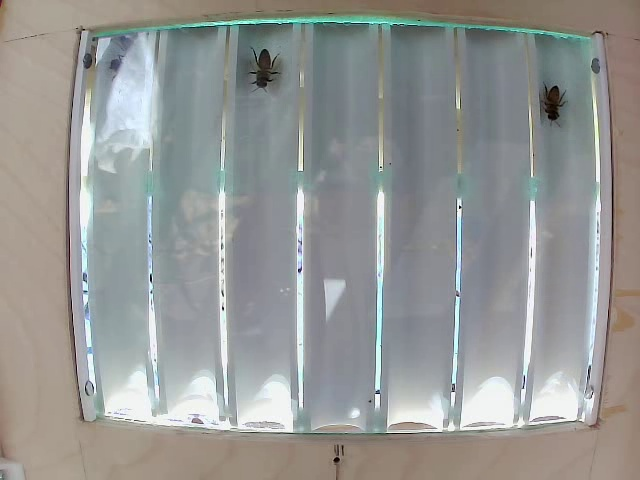bee: (232, 50, 279, 94), (531, 78, 567, 128)
